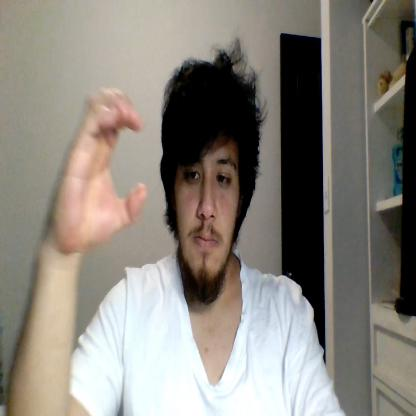C: (49, 88, 146, 247)
